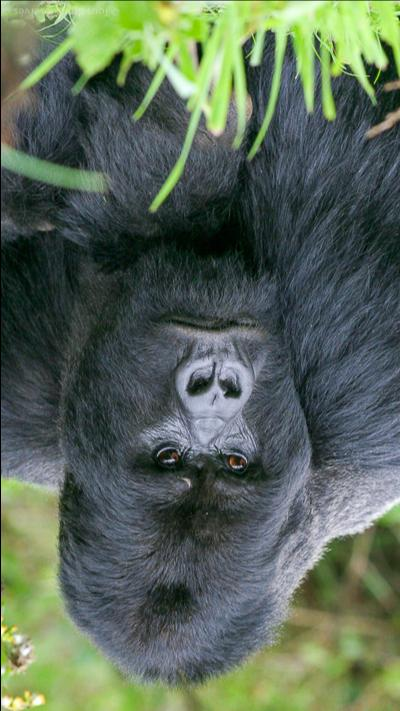goriile_montagne: (0, 73, 400, 683)
